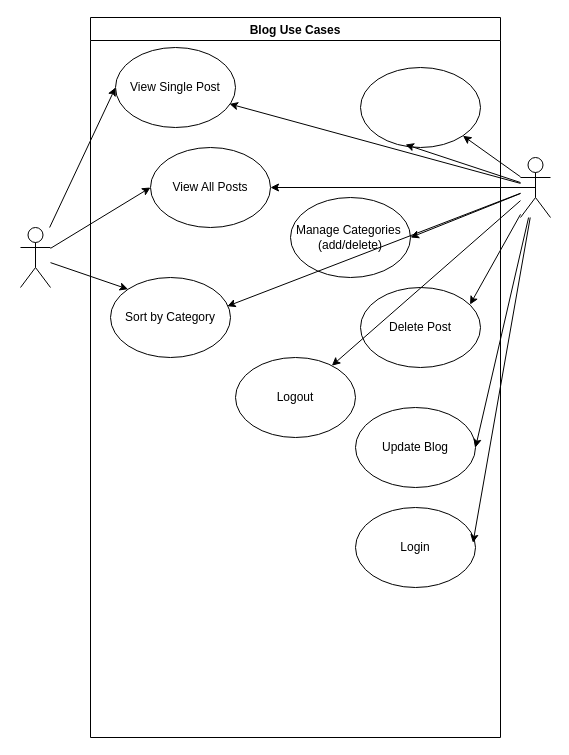
This 569x755 diagram has some shape labels left out. Here are the shapes that lost their labels. From the top down, the centre of each, then its label:
At point 420,107: "Create Post".
At point 535,187: "Admin".
At point 35,257: "Viewer".
